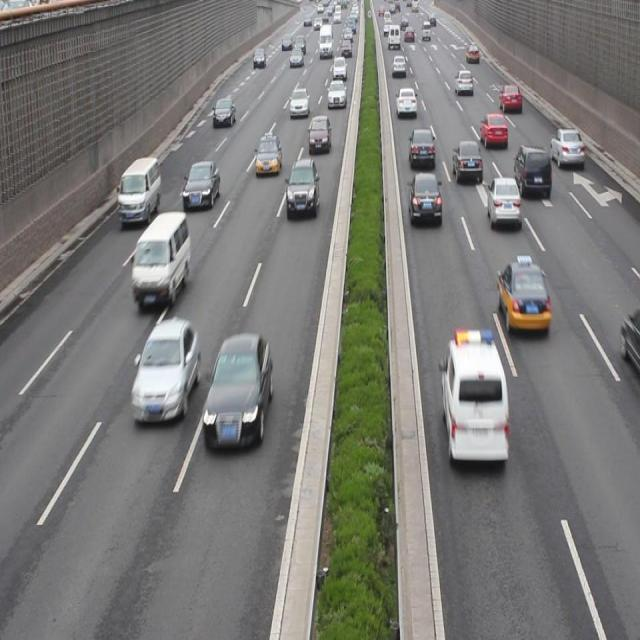car: (202, 333, 274, 447), (132, 318, 200, 422), (495, 254, 549, 337), (511, 144, 551, 199), (285, 159, 318, 220), (406, 170, 441, 226), (182, 160, 221, 210), (485, 177, 520, 230), (450, 140, 482, 184), (548, 128, 583, 168), (255, 133, 281, 179), (408, 128, 435, 168), (477, 113, 506, 149), (308, 113, 330, 156), (212, 96, 236, 128)
truck: (439, 326, 507, 466), (133, 211, 192, 305), (118, 157, 161, 223)
